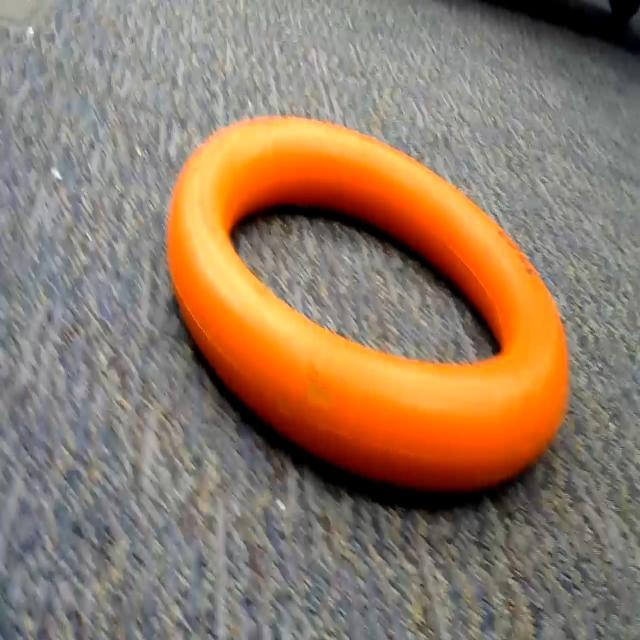note: (161, 108, 601, 522)
